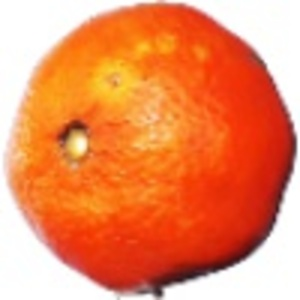tangerina: (3, 1, 298, 300)
